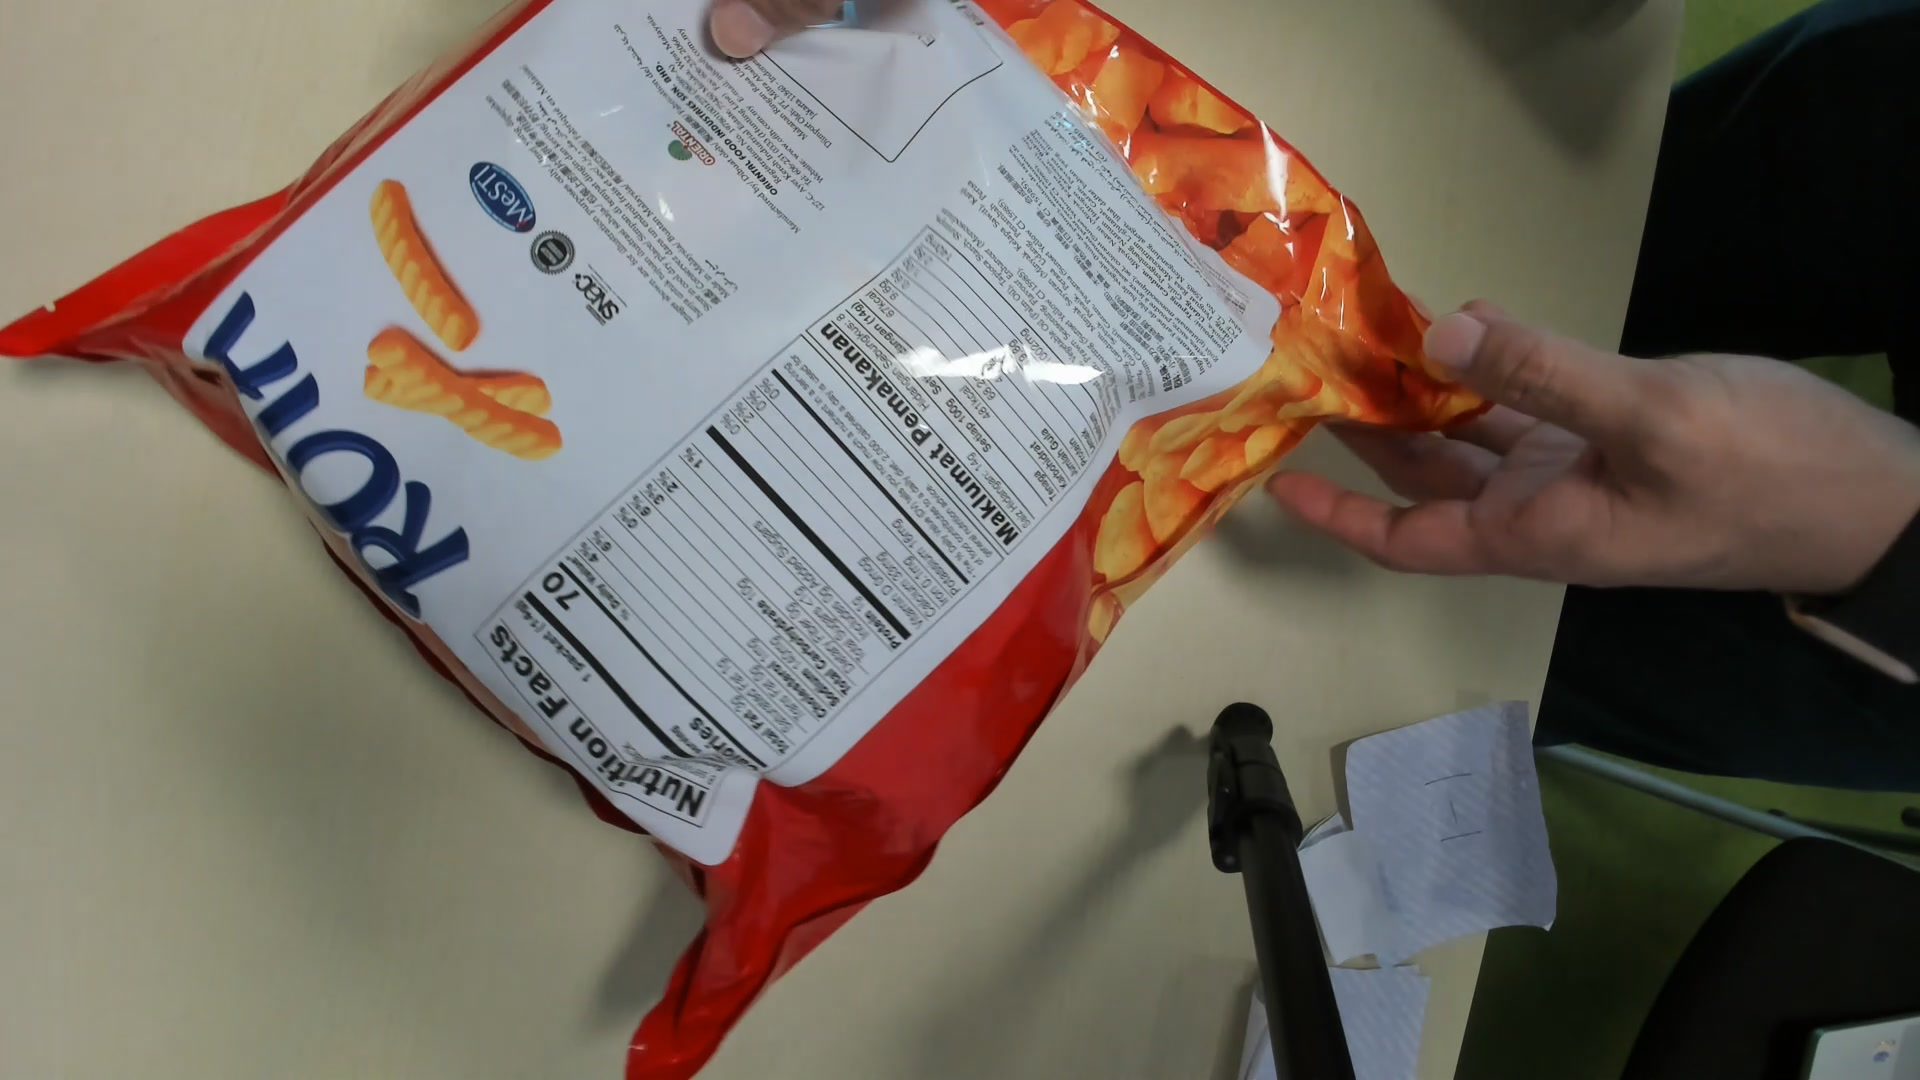PotatoChipsKeropok_100-199g_Halal_NonHealthy: (53, 5, 1480, 1027)
